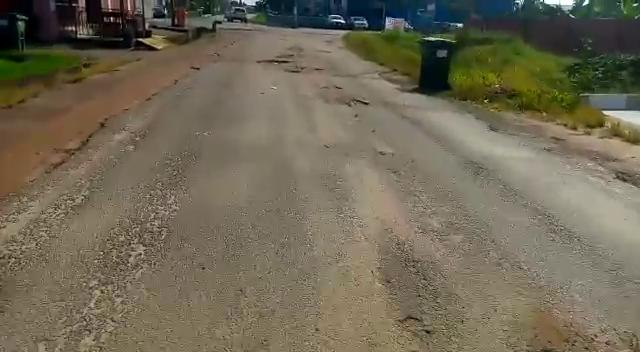pothole: (344, 97, 370, 109), (254, 59, 294, 64)
